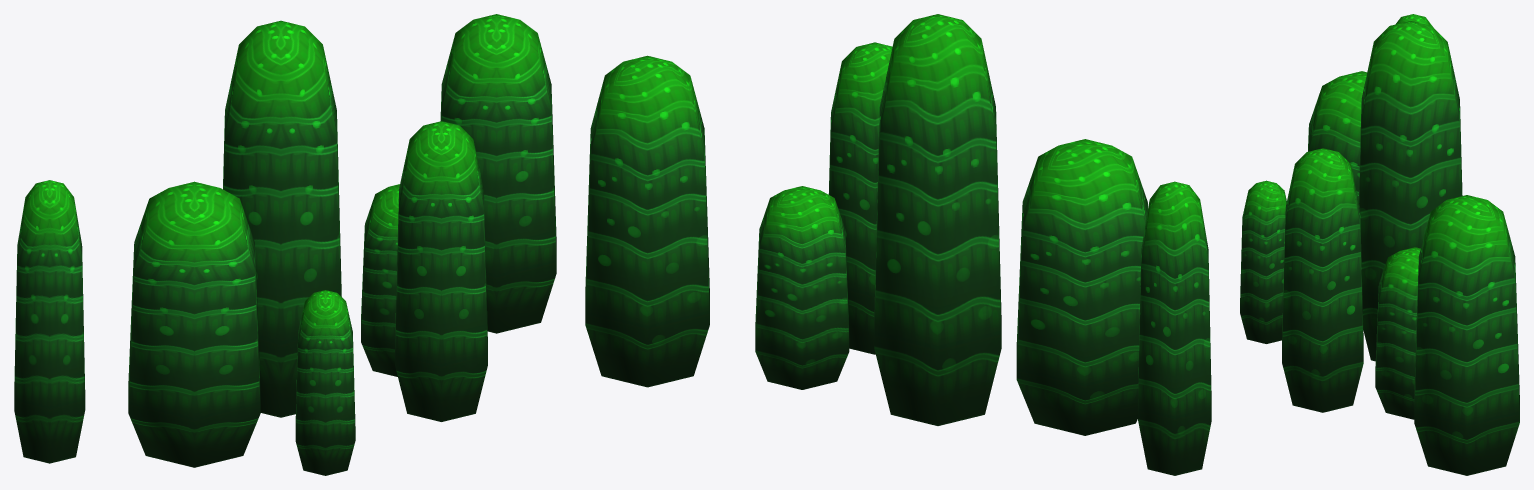
File: Coral_15c.FBX
3 renders of one model, left to right at view 1: azimuth 30°, elevation 25°; view 2: azimuth 150°, elevation 25°; view 3: azimuth 270°, elevation 25°, orthographic. The views are drawn at different scales.
Visible parts, largest first — view 1: Coral_15c; view 2: Coral_15c; view 3: Coral_15c.
Boxes of the visible parts, bbox=[...] form: Coral_15c: bbox=[14, 14, 556, 475]; Coral_15c: bbox=[585, 14, 1211, 475]; Coral_15c: bbox=[1240, 14, 1519, 475].
Size of the model in its own units: 130 by 80.82 by 62.66.
